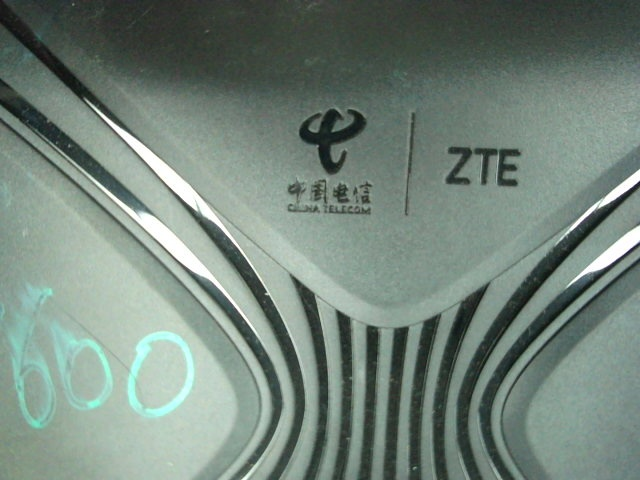AX_ZTEChinaTelecom: (276, 106, 522, 218)
